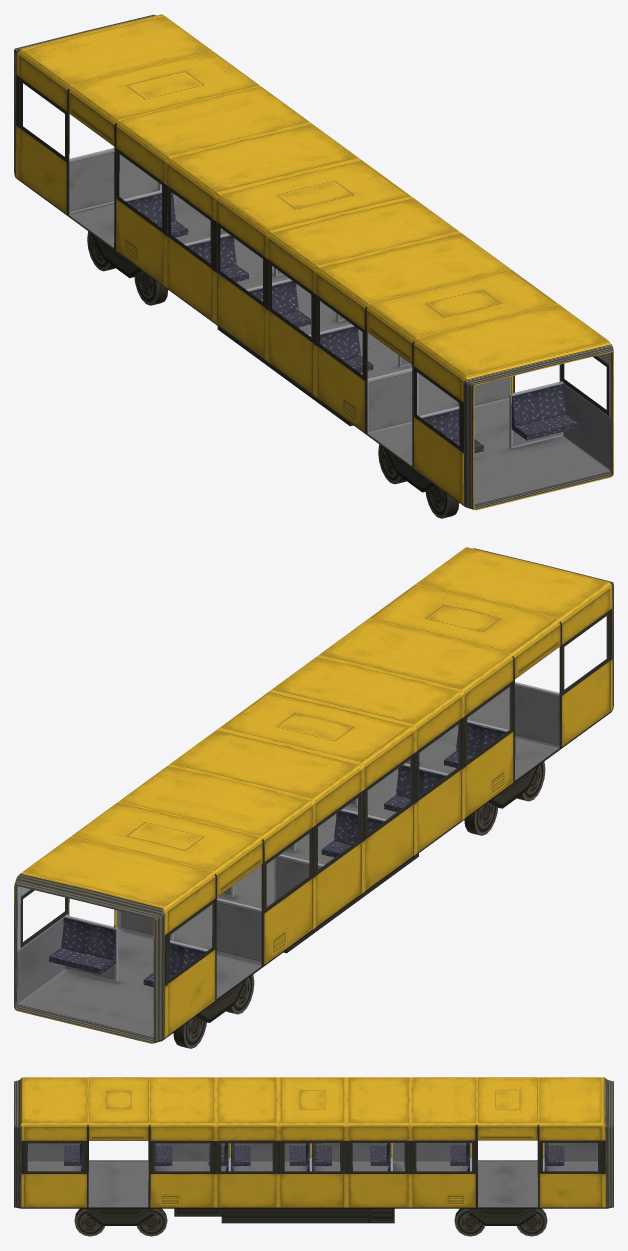
Rendered from TrainMiddleCartMS03.fbx.
3 renders of one model, top to bottom at view 1: azimuth 30°, elevation 25°; view 2: azimuth 150°, elevation 25°; view 3: azimuth 270°, elevation 25°, orthographic. The views are drawn at different scales.
Parts seen in each view (by area): view 1: TrainMiddleCart; view 2: TrainMiddleCart; view 3: TrainMiddleCart.
Boxes of the visible parts, x1,y1,x2,y2 form: TrainMiddleCart: (14,14,613,518); TrainMiddleCart: (14,547,613,1048); TrainMiddleCart: (14,1077,613,1236).
Bounding box in the file's own units: 300 × 357 × 1599.
